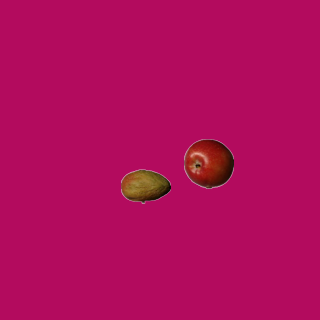Apple Braeburn: (183, 138, 233, 188)
Papaya: (120, 161, 170, 211)
